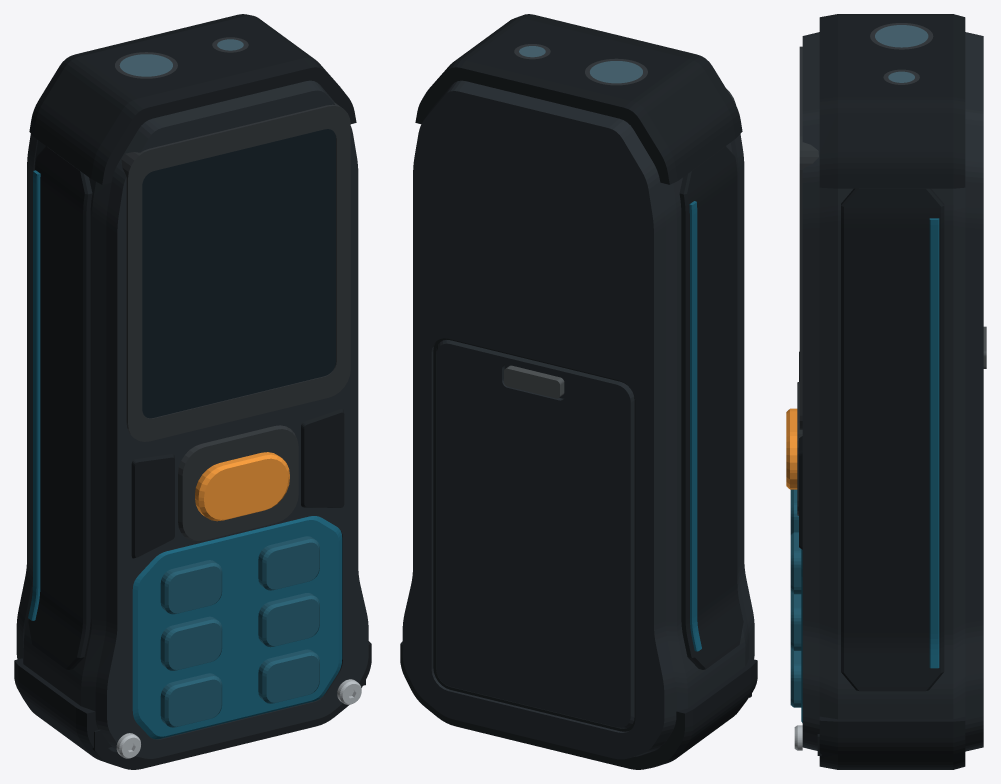
The picture shows the model from 3 angles, left to right: view 1: azimuth 30°, elevation 25°; view 2: azimuth 150°, elevation 25°; view 3: azimuth 270°, elevation 25°; orthographic projection.
Parts seen in each view (by area): view 1: Display protective window, Front fascia, Left side grip, Upper corner guard, Lower control carrier, Display surround, Structural perimeter shell, Measuring key raised surround, Lower corner guard, Oval measuring key, Left front grip wing, Right front grip wing (+9 smaller); view 2: Rear enclosure frame, Battery compartment door, Left side grip, Upper corner guard, Structural perimeter shell, Lower corner guard, Front fascia, Left rear grip rail, Battery door seal, Battery door sliding latch, Receiver optical window; view 3: Right side grip, Structural perimeter shell, Upper corner guard, Rear enclosure frame, Front fascia, Lower corner guard, Right rear grip rail, Display surround, Receiver optical window, Oval measuring key, Control key 1 2, Control key 2 2 (+4 smaller).
Part boxes in pixels (left/top/right/bottom): Display protective window: left=142, top=129, right=335, bottom=418; Front fascia: left=95, top=80, right=368, bottom=758; Left side grip: left=28, top=146, right=92, bottom=669; Upper corner guard: left=29, top=14, right=356, bottom=184; Lower control carrier: left=132, top=516, right=342, bottom=739; Display surround: left=121, top=102, right=350, bottom=441; Structural perimeter shell: left=23, top=140, right=135, bottom=756; Measuring key raised surround: left=178, top=425, right=298, bottom=540; Lower corner guard: left=14, top=641, right=371, bottom=769; Oval measuring key: left=195, top=452, right=289, bottom=521; Left front grip wing: left=131, top=454, right=174, bottom=558; Right front grip wing: left=301, top=409, right=344, bottom=507; Rear enclosure frame: left=402, top=80, right=676, bottom=759; Battery compartment door: left=436, top=340, right=634, bottom=728; Left side grip: left=679, top=146, right=743, bottom=669; Upper corner guard: left=415, top=14, right=742, bottom=184; Structural perimeter shell: left=636, top=140, right=748, bottom=756; Lower corner guard: left=400, top=641, right=757, bottom=769; Front fascia: left=734, top=134, right=754, bottom=659; Left rear grip rail: left=689, top=201, right=701, bottom=651; Battery door seal: left=433, top=338, right=635, bottom=731; Battery door sliding latch: left=504, top=365, right=564, bottom=398; Receiver optical window: left=590, top=61, right=642, bottom=83; Right side grip: left=841, top=188, right=944, bottom=691; Structural perimeter shell: left=819, top=187, right=965, bottom=719; Upper corner guard: left=819, top=14, right=965, bottom=188; Rear enclosure frame: left=965, top=32, right=983, bottom=751; Front fascia: left=802, top=32, right=819, bottom=750; Lower corner guard: left=817, top=716, right=965, bottom=769; Right rear grip rail: left=929, top=218, right=939, bottom=668; Display surround: left=799, top=46, right=818, bottom=429; Receiver optical window: left=875, top=25, right=928, bottom=47; Oval measuring key: left=786, top=408, right=797, bottom=489; Control key 1 2: left=790, top=532, right=801, bottom=594; Control key 2 2: left=790, top=592, right=801, bottom=650.
Size of the model in its own units: 0.055 by 0.121 by 0.033.
